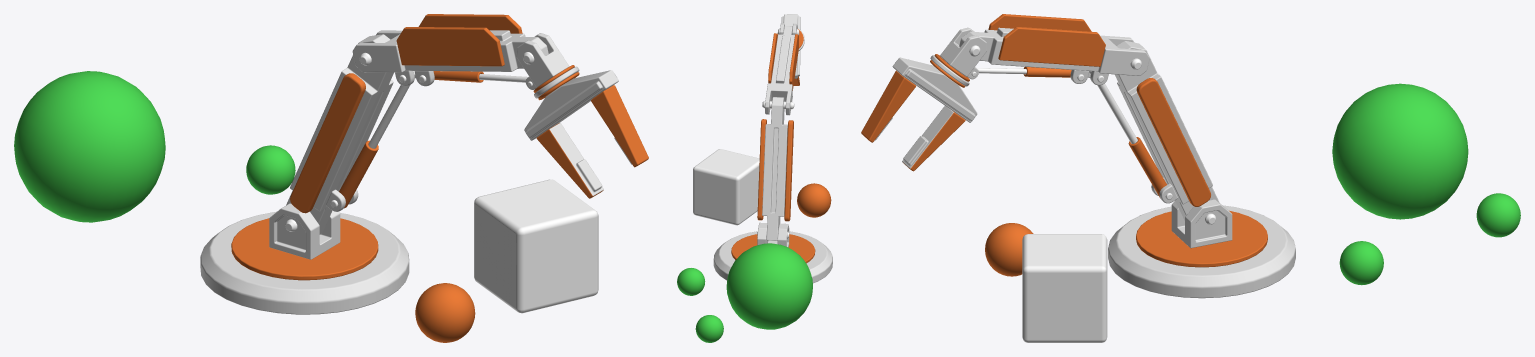
Rendered from Robot.gltf.
3 renders of one model, left to right at view 1: azimuth 30°, elevation 25°; view 2: azimuth 150°, elevation 25°; view 3: azimuth 270°, elevation 25°, orthographic. The views are drawn at different scales.
Visible parts, largest first — view 1: Roundcube.001, Roundcube.003, Circle, Plane.010, Circle.003, Cube, Plane.004, Cube.001, Plane.001, Roundcube.004, Plane, Plane.003 (+5 smaller); view 2: Roundcube.001, Roundcube.003, Cube, Circle, Plane.001, Cube.001, Roundcube.004, Circle.003, Roundcube.002, Roundcube.005, Plane.010, Plane (+1 smaller); view 3: Roundcube.001, Roundcube.003, Circle, Plane.010, Circle.003, Cube, Cube.001, Plane.004, Plane.001, Plane, Plane.003, Roundcube.004 (+5 smaller).
Part boxes in pixels (<box>): Roundcube.001: <box>14,71,165,222</box>; Roundcube.003: <box>474,179,598,313</box>; Circle: <box>200,211,409,314</box>; Plane.010: <box>396,14,522,66</box>; Circle.003: <box>231,218,378,280</box>; Cube: <box>286,34,393,234</box>; Plane.004: <box>536,85,648,198</box>; Cube.001: <box>290,73,365,213</box>; Plane.001: <box>352,30,548,72</box>; Roundcube.004: <box>415,283,475,342</box>; Plane: <box>269,203,340,259</box>; Plane.003: <box>524,70,618,140</box>; Roundcube.001: <box>726,243,812,329</box>; Roundcube.003: <box>693,149,759,225</box>; Cube: <box>762,97,787,240</box>; Circle: <box>713,231,832,283</box>; Plane.001: <box>765,26,794,115</box>; Cube.001: <box>757,119,793,221</box>; Roundcube.004: <box>797,183,831,217</box>; Circle.003: <box>731,234,815,263</box>; Roundcube.002: <box>677,268,705,295</box>; Roundcube.005: <box>695,315,723,342</box>; Plane.010: <box>768,33,798,90</box>; Plane: <box>757,222,789,247</box>; Roundcube.001: <box>1332,83,1468,219</box>; Roundcube.003: <box>1022,234,1107,342</box>; Circle: <box>1108,205,1295,298</box>; Plane.010: <box>988,14,1105,66</box>; Circle.003: <box>1136,210,1267,267</box>; Cube: <box>1114,41,1219,220</box>; Cube.001: <box>1136,78,1210,206</box>; Plane.004: <box>861,70,965,171</box>; Plane.001: <box>959,27,1149,75</box>; Plane: <box>1171,199,1232,248</box>; Plane.003: <box>892,57,977,122</box>; Roundcube.004: <box>985,223,1033,276</box>.
Bounding box in the file's own units: 4.04 × 3.23 × 7.02.
